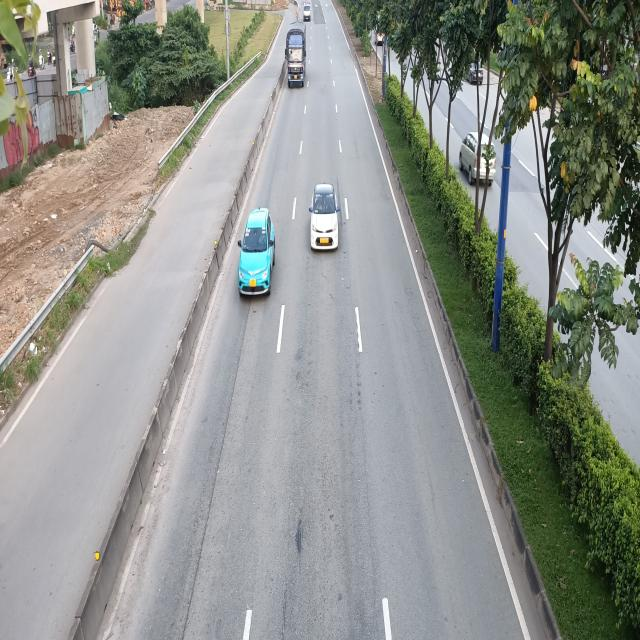car: (238, 206, 275, 296), (309, 181, 341, 251)
truck: (284, 23, 306, 88)
van: (302, 2, 312, 21)
